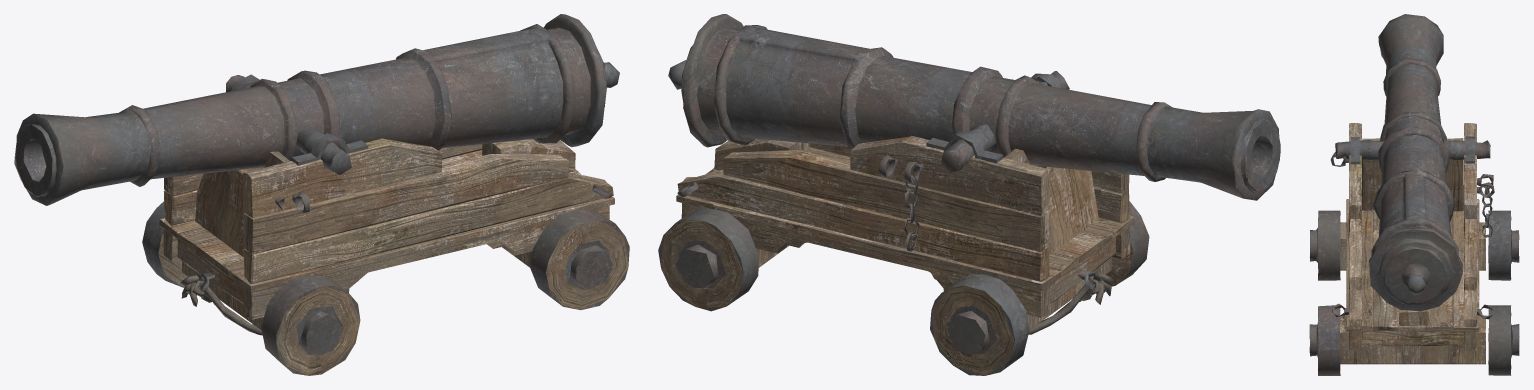
File: SM_Cannon.fbx
The picture shows the model from 3 angles, left to right: view 1: azimuth 30°, elevation 25°; view 2: azimuth 150°, elevation 25°; view 3: azimuth 270°, elevation 25°; orthographic projection. The views are drawn at different scales.
Parts seen in each view (by area): view 1: SM_Cannon_LOD0; view 2: SM_Cannon_LOD0; view 3: SM_Cannon_LOD0.
Part boxes in pixels (x1,y1,x2,y2): SM_Cannon_LOD0: (14, 14, 629, 375); SM_Cannon_LOD0: (658, 14, 1280, 375); SM_Cannon_LOD0: (1309, 14, 1519, 375).
Bounding box in the file's own units: 331 × 141 × 142.
